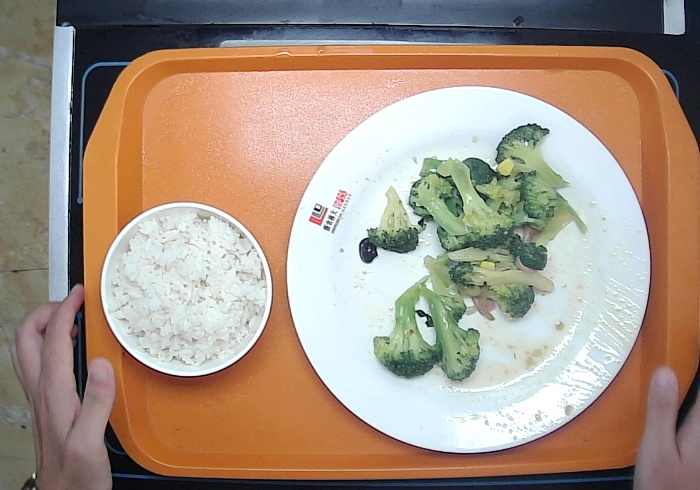ZNLD-Da_Yuan_Pan: (280, 79, 653, 460)
ZNLD-Fan_Wan: (91, 195, 275, 387)
